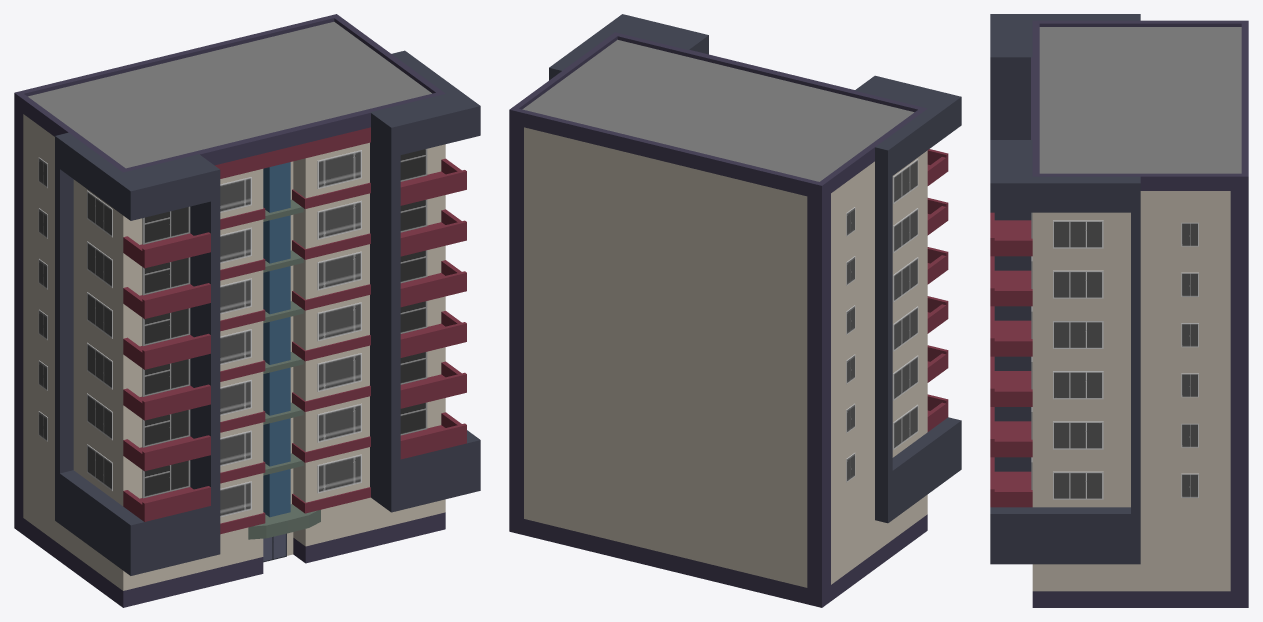
The model's file is building09_color01.fbx.
3 views of the same model, side by side, from view 1: azimuth 30°, elevation 25°; view 2: azimuth 150°, elevation 25°; view 3: azimuth 270°, elevation 25° (orthographic). The views are drawn at different scales.
Parts seen in each view (by area): view 1: Building09_color01; view 2: Building09_color01; view 3: Building09_color01.
Part boxes in pixels (x1=…): Building09_color01: x1=14, y1=14, x2=480, y2=607; Building09_color01: x1=509, y1=14, x2=961, y2=607; Building09_color01: x1=990, y1=14, x2=1248, y2=607.
Size of the model in its own units: 2298 by 2733 by 1482.
